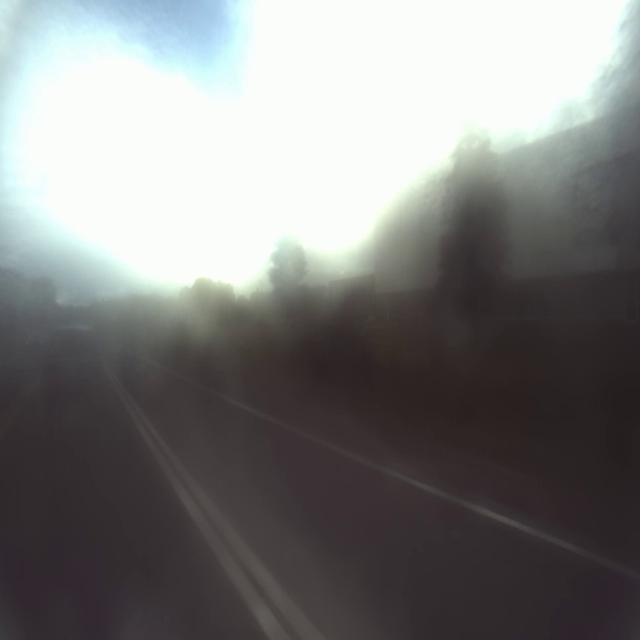car: (28, 305, 106, 392)
